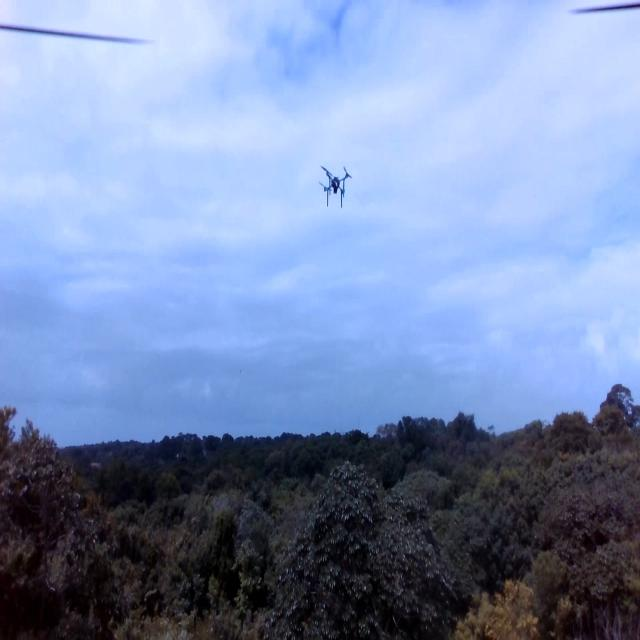-uav-: (313, 150, 355, 218)
